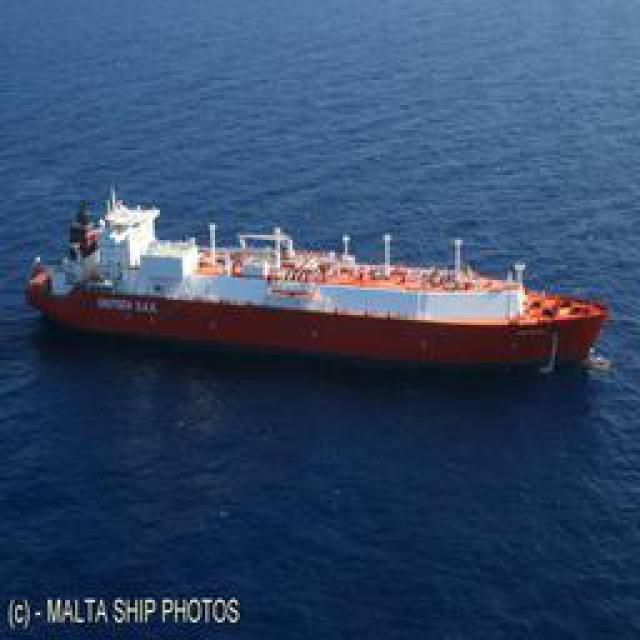Ship: (18, 180, 606, 373)
